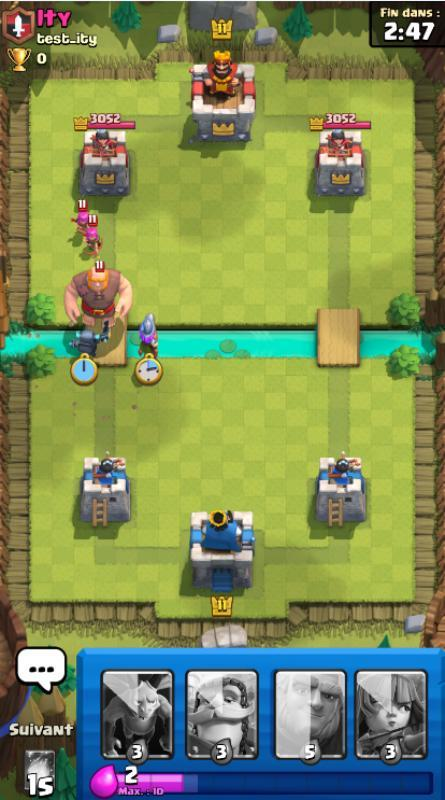archere: (75, 214, 102, 259), (71, 198, 91, 236)
geant: (63, 260, 133, 329)
mini_PEKKA: (69, 320, 110, 358)
mousquetaire: (139, 313, 158, 358)
